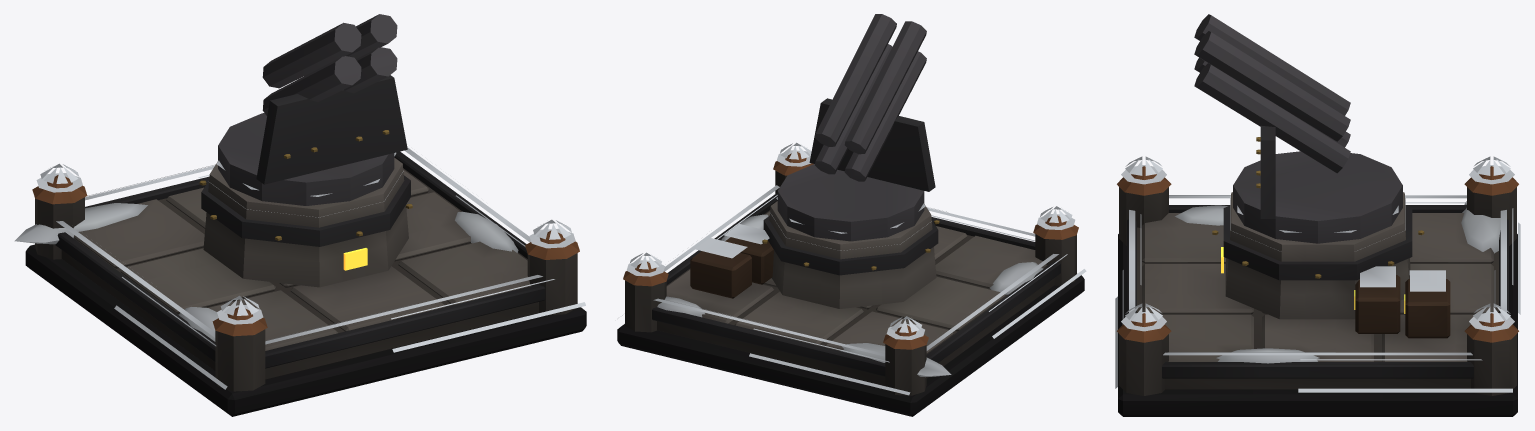
File: nains-4.glb
The picture shows the model from 3 angles, left to right: view 1: azimuth 30°, elevation 25°; view 2: azimuth 150°, elevation 25°; view 3: azimuth 270°, elevation 25°; orthographic projection. The views are drawn at different scales.
Visible parts, largest first — view 1: hautroc_4_architecture, Tourelle_peint; view 2: hautroc_4_architecture, Tourelle_peint; view 3: hautroc_4_architecture, Tourelle_peint.
Part boxes in pixels (x1,y1,x2,y2): hautroc_4_architecture: (14, 147, 586, 416); Tourelle_peint: (218, 14, 407, 205); hautroc_4_architecture: (617, 142, 1086, 416); Tourelle_peint: (777, 14, 935, 241); hautroc_4_architecture: (1115, 156, 1520, 416); Tourelle_peint: (1194, 14, 1402, 243).
Bounding box in the file's own units: 0.8655 × 0.6868 × 0.811.
